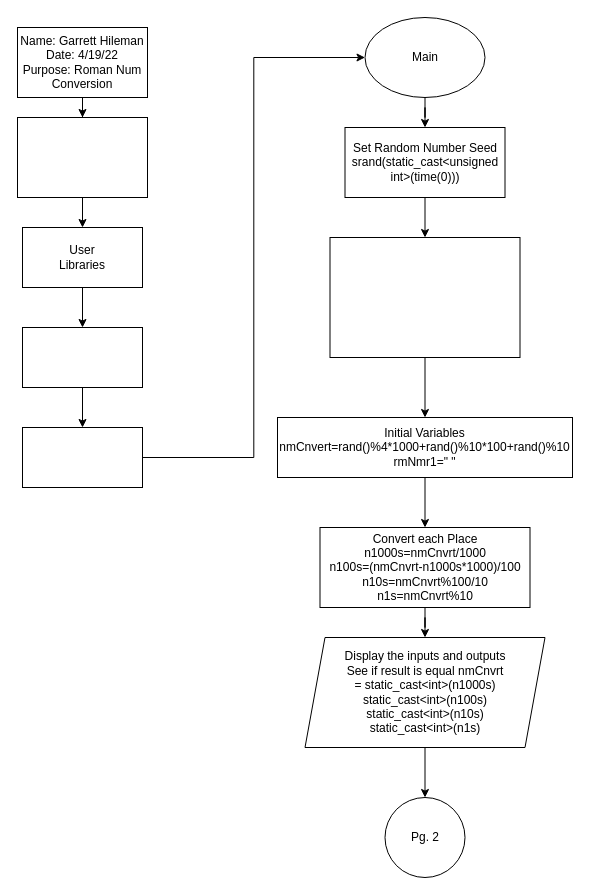
The diagram is 590 pixels wide and 895 high, and some of its shapes have lost their labels. Here are the shapes that lost their labels. From the top down, the centre of each, then its label:
pixel 82 157: System Libraries iostream cstdlib cstime cstring
pixel 424 297: Declare Variables rmNmr1 nmCnvrt n1000s n100s n10s n1s
pixel 82 357: Global Constants
pixel 82 457: Function Protypes
